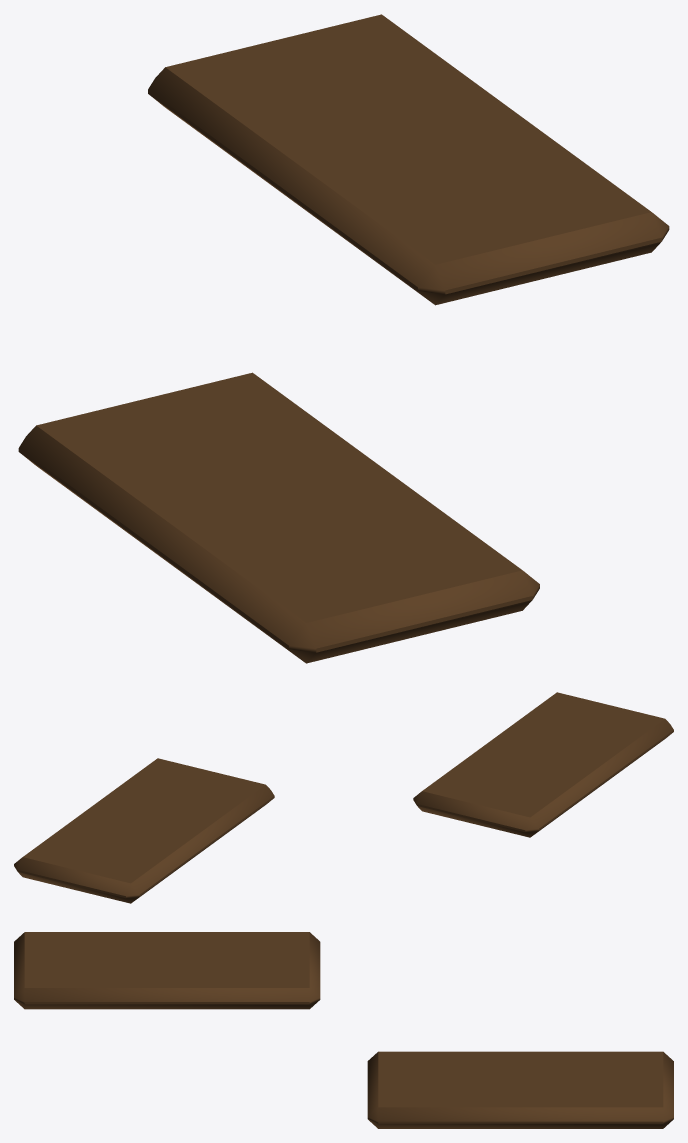
The model's file is p_footprint.glb.
The picture shows the model from 3 angles, top to bottom: view 1: azimuth 30°, elevation 25°; view 2: azimuth 150°, elevation 25°; view 3: azimuth 270°, elevation 25°; orthographic projection. The views are drawn at different scales.
Visible parts, largest first — view 1: body; view 2: body; view 3: body.
Part boxes in pixels (x1=…): body: x1=18, y1=14, x2=669, y2=663; body: x1=14, y1=692, x2=673, y2=903; body: x1=14, y1=932, x2=673, y2=1128.
Size of the model in its own units: 0.37 by 0.02 by 0.56.
